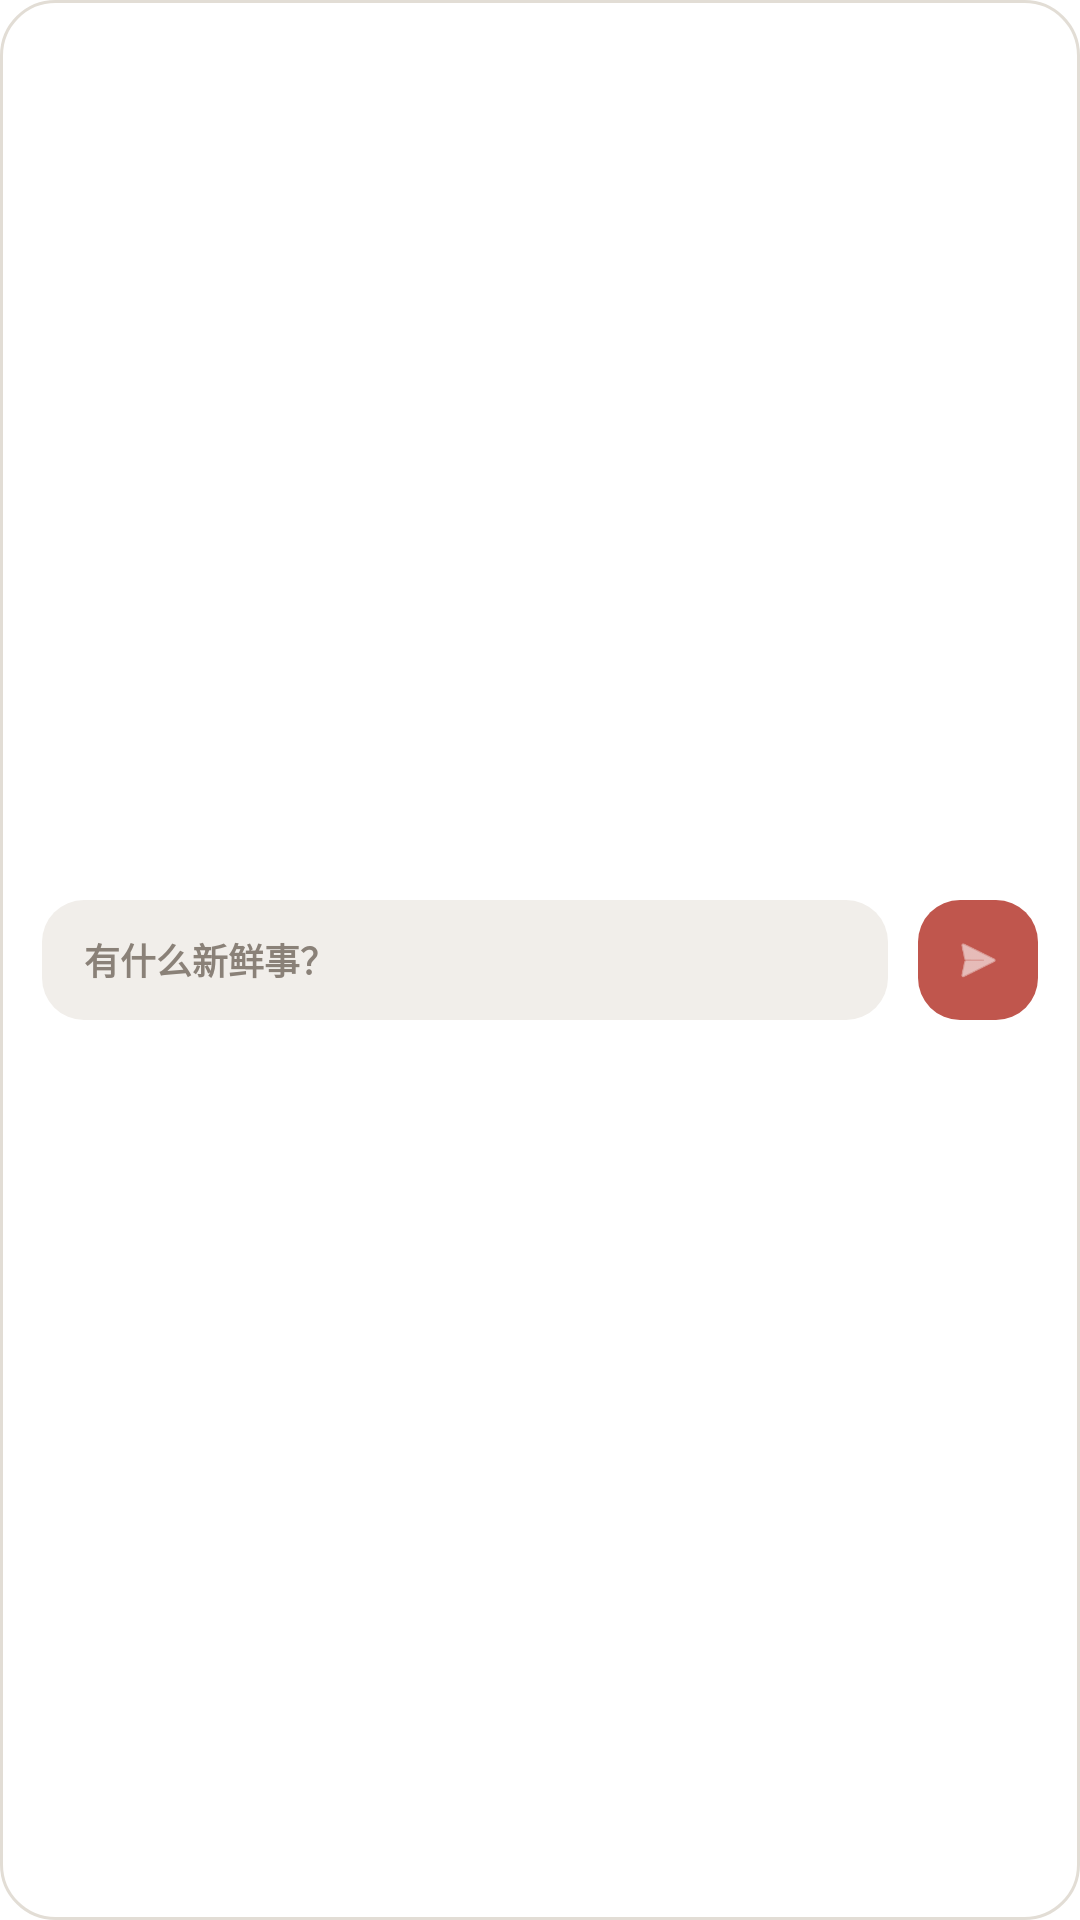

Icon click points for this 1080px×1920px phone screenshot, format (x,y):
Send: (978,960)
